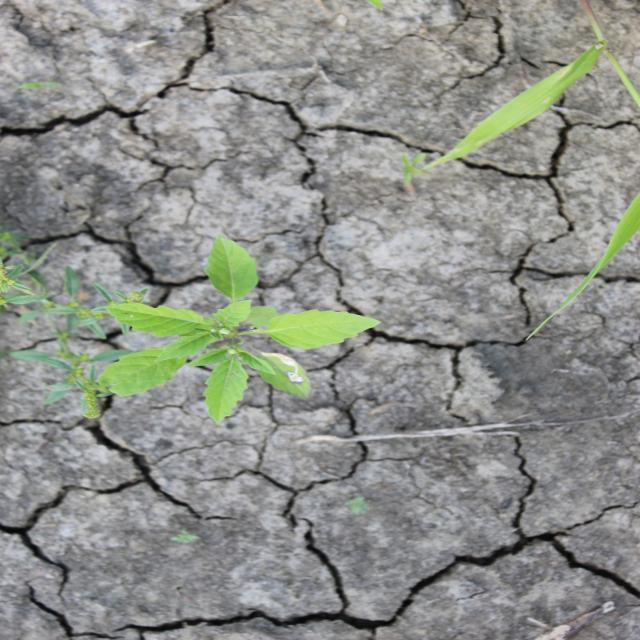CutleafGroundcherry: (95, 234, 383, 426)
Waterhemp: (0, 234, 153, 422)
